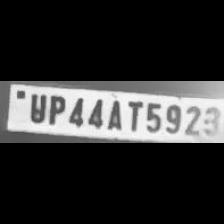2: (181, 102, 201, 136)
3: (202, 102, 220, 136)
4: (84, 95, 104, 129), (65, 94, 85, 126)
5: (141, 99, 161, 133)
9: (162, 100, 182, 134)
A: (102, 97, 124, 129)
P: (45, 93, 65, 125)
T: (124, 98, 142, 132)
U: (26, 92, 46, 124)
